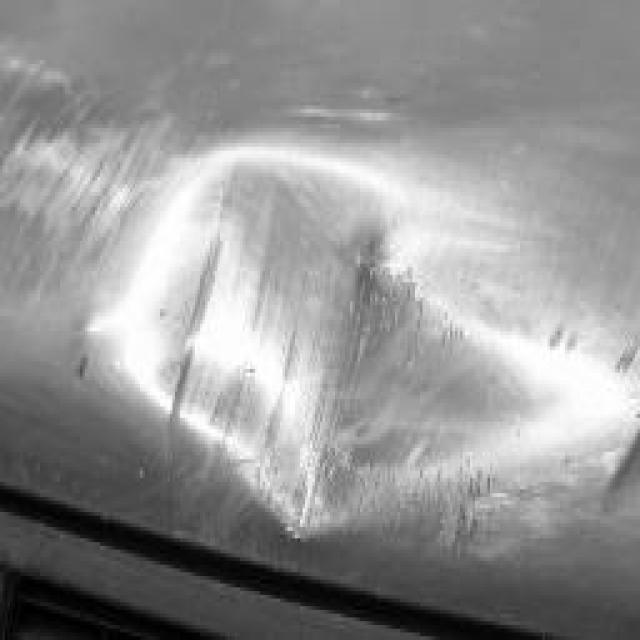Bonnet: (80, 120, 560, 587)
